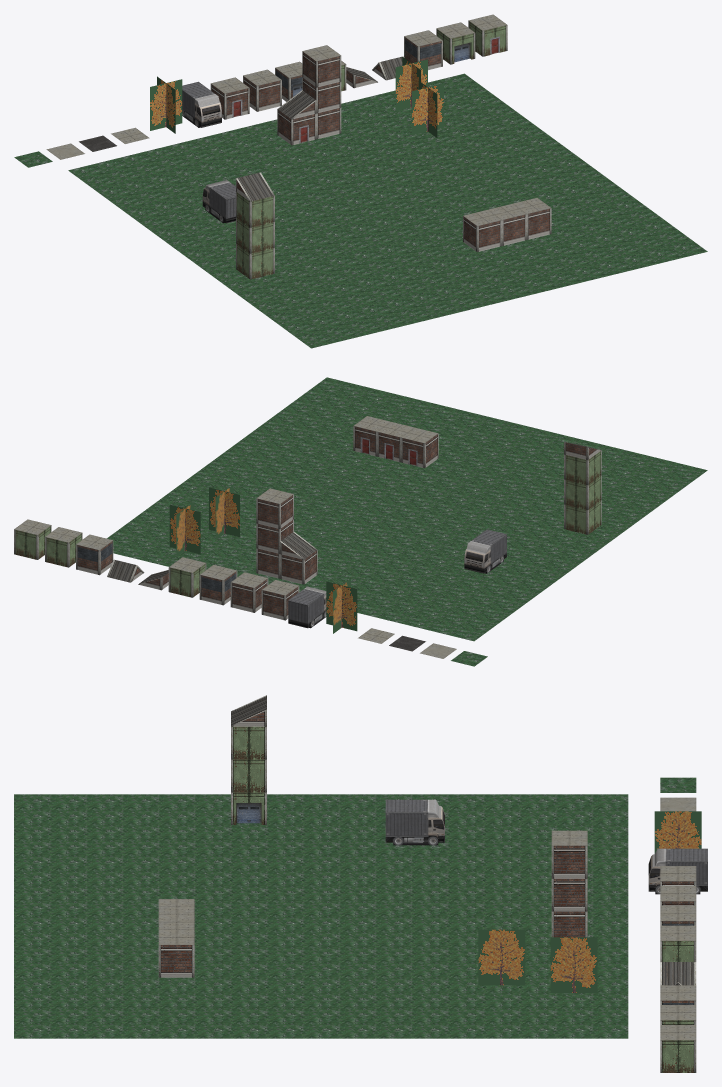
The model's file is city.gltf.
3 views of the same model, one above another, from view 1: azimuth 30°, elevation 25°; view 2: azimuth 150°, elevation 25°; view 3: azimuth 270°, elevation 25° (orthographic). The views are drawn at different scales.
Visible parts, largest first — view 1: tree, tree.001, truck, wall.A.003, wall_door.A.002, wall_door.B, wall.A, wall_garage.B, tree.002, wall_door.A, wall.C, truck.001 (+11 smaller); view 2: truck.001, tree.002, tree, tree.001, truck, wall.A.003, wall_door.A.002, wall.C, wall.B, wall_garage.A, wall.A, wall_garage.B (+12 smaller); view 3: tree.001, truck.001, tree.002, tree, wall.A.003, wall_door.A.004, wall_door.B, truck, wall.B, wall.A.002, wall.B.001, wall.B.002 (+167 smaller).
Part boxes in pixels (x1,y1,x2,y2): tree: (150,76,182,133); tree.001: (412,81,443,137); truck: (182,81,221,127); wall.A.003: (302,45,341,87); wall_door.A.002: (463,210,501,251); wall_door.B: (468,14,507,56); wall.A: (243,69,281,111); wall_garage.B: (436,22,475,64); tree.002: (395,57,427,111); wall_door.A: (210,77,249,119); wall.C: (404,30,442,70); truck.001: (202,180,235,223); truck.001: (464,529,506,573); tree.002: (169,502,200,556); tree: (326,579,357,633); tree.001: (209,485,239,539); truck: (288,586,326,628); wall.A.003: (256,488,293,528); wall_door.A.002: (401,427,438,468); wall.C: (76,534,113,575); wall.B: (168,557,206,597); wall_garage.A: (199,564,237,605); wall.A: (230,572,268,612); wall_garage.B: (45,527,82,567); tree.001: (478,929,525,985); truck.001: (385,799,444,845); tree.002: (550,937,597,992); tree: (654,811,701,853); wall.A.003: (551,830,587,878); wall_door.A.004: (158,929,194,977); wall_door.B: (660,1025,696,1072); truck: (648,848,707,894); wall.B: (660,925,696,961); wall.A.002: (551,878,587,911); wall.B.001: (231,759,266,792); wall.B.002: (231,726,266,759).
Bounding box in the file's own units: 19.33 × 3.5 × 19.2.
Materials: 32 (32 with a texture image).
